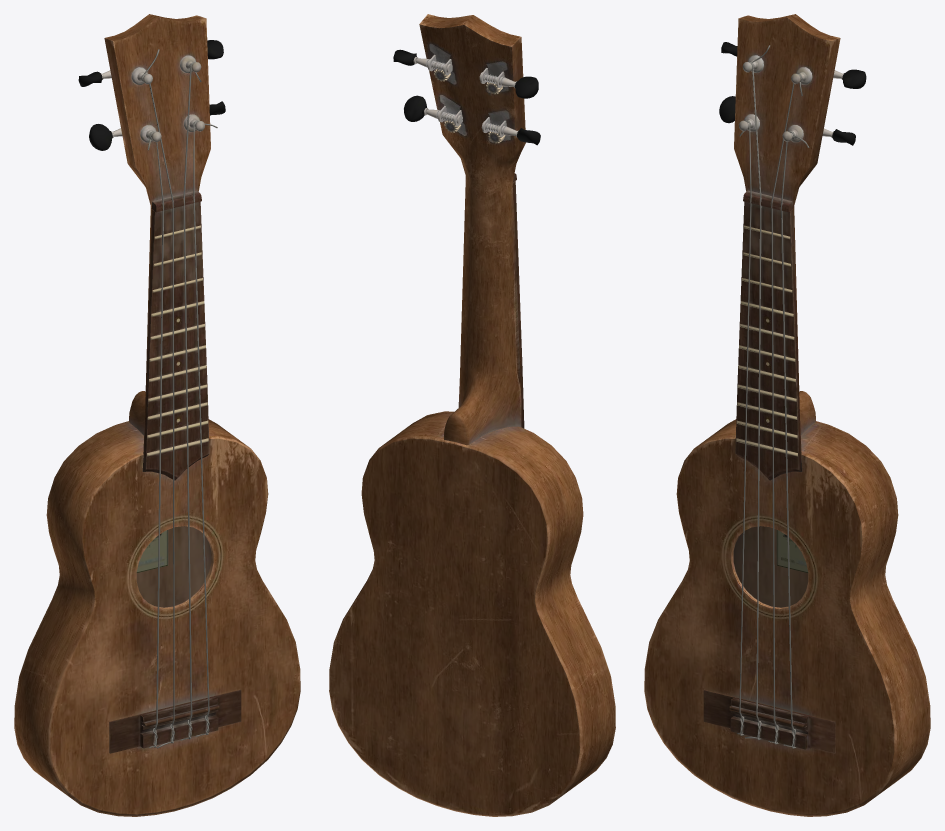
The model's file is Ukulele_01.glb.
3 renders of one model, left to right at view 1: azimuth 30°, elevation 25°; view 2: azimuth 150°, elevation 25°; view 3: azimuth 330°, elevation 25°, orthographic.
Visible parts, largest first — view 1: Ukulele_01; view 2: Ukulele_01; view 3: Ukulele_01.
Part boxes in pixels (<box>): Ukulele_01: <box>14,14,300,816</box>; Ukulele_01: <box>329,14,615,816</box>; Ukulele_01: <box>644,14,930,816</box>.
Bounding box in the file's own units: 0.1779 × 0.527 × 0.0508.
Materials: 1 (1 with a texture image).
